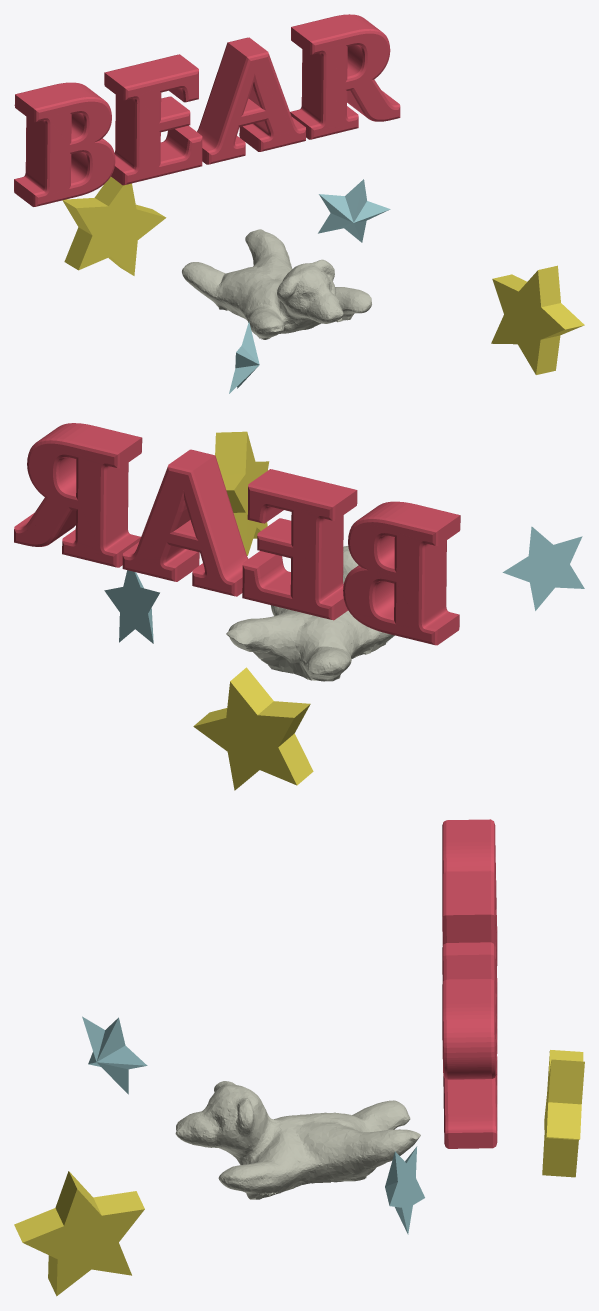
3 renders of one model, top to bottom at view 1: azimuth 30°, elevation 25°; view 2: azimuth 150°, elevation 25°; view 3: azimuth 270°, elevation 25°, orthographic. The views are drawn at different scales.
Parts seen in each view (by area): view 1: Mesh_Mesh_head_geo.001_lambert2SG.001; view 2: Mesh_Mesh_head_geo.001_lambert2SG.001; view 3: Mesh_Mesh_head_geo.001_lambert2SG.001.
Boxes of the visible parts, x1,y1,x2,y2 form: Mesh_Mesh_head_geo.001_lambert2SG.001: (14,14,584,393); Mesh_Mesh_head_geo.001_lambert2SG.001: (14,423,584,790); Mesh_Mesh_head_geo.001_lambert2SG.001: (14,819,584,1296).
Bounding box in the file's own units: 83.46 × 50.16 × 93.83.
